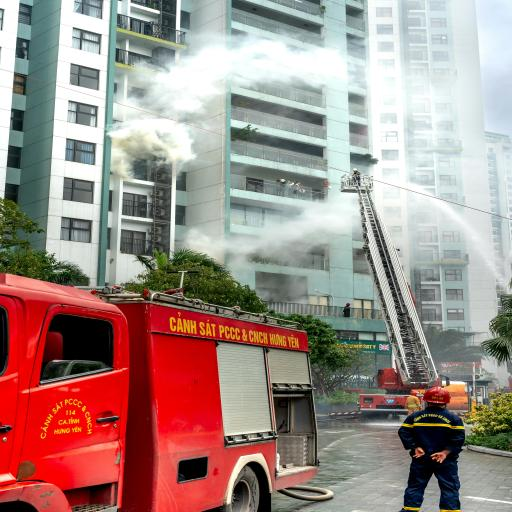buildingfire: (18, 4, 280, 258)
smoke: (110, 40, 341, 177), (249, 200, 336, 250)
